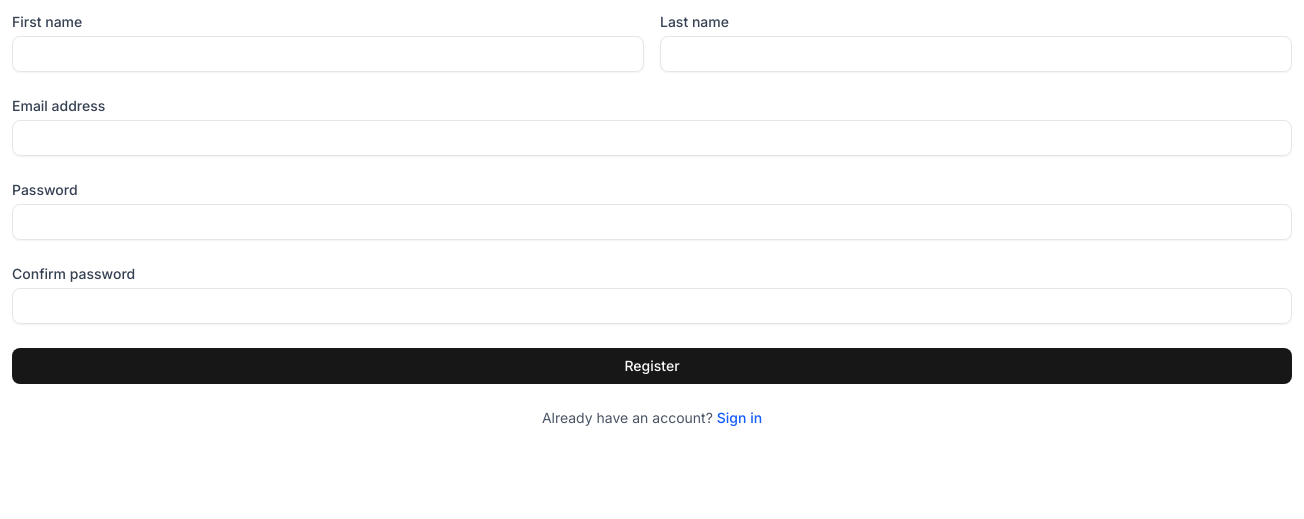
Test: test register inputs › test password mismatch
Type "John" into the field with test id "first-name" at (328, 54), box [12,36,644,72]
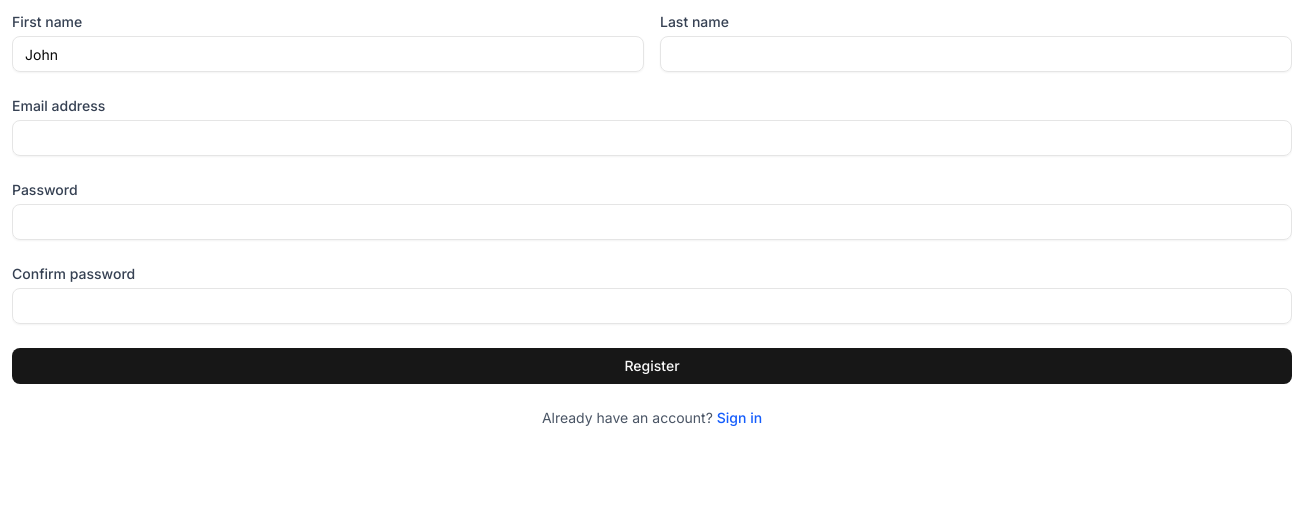
Type "Doe" into the field with test id "last-name" at (976, 54), box [660,36,1292,72]
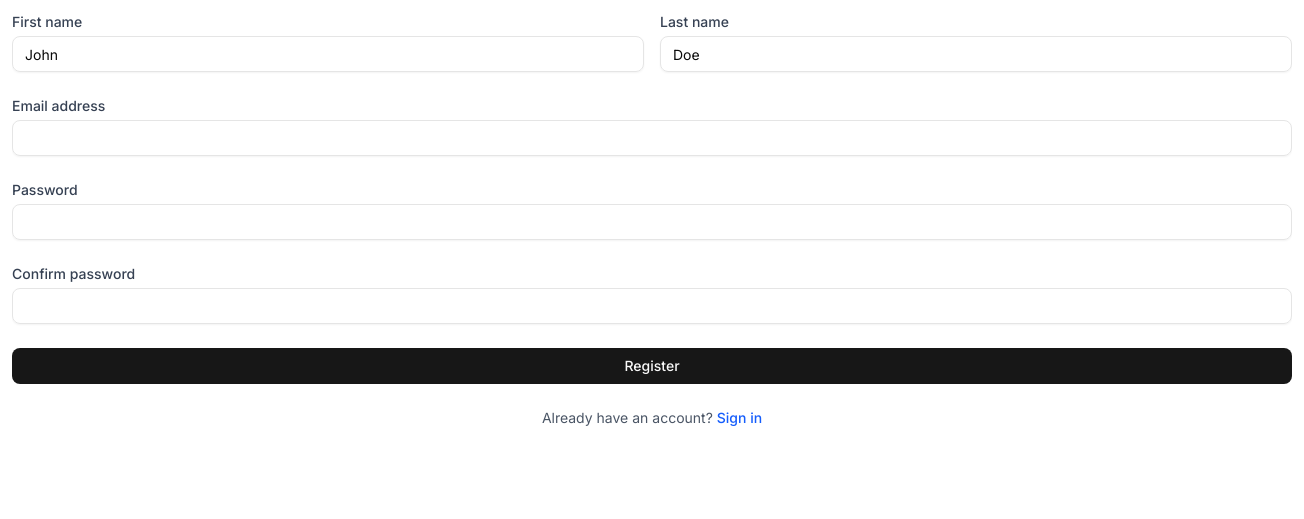
Type "john.doe@example.com" into the field with test id "email" at (652, 138), box [12,120,1292,156]
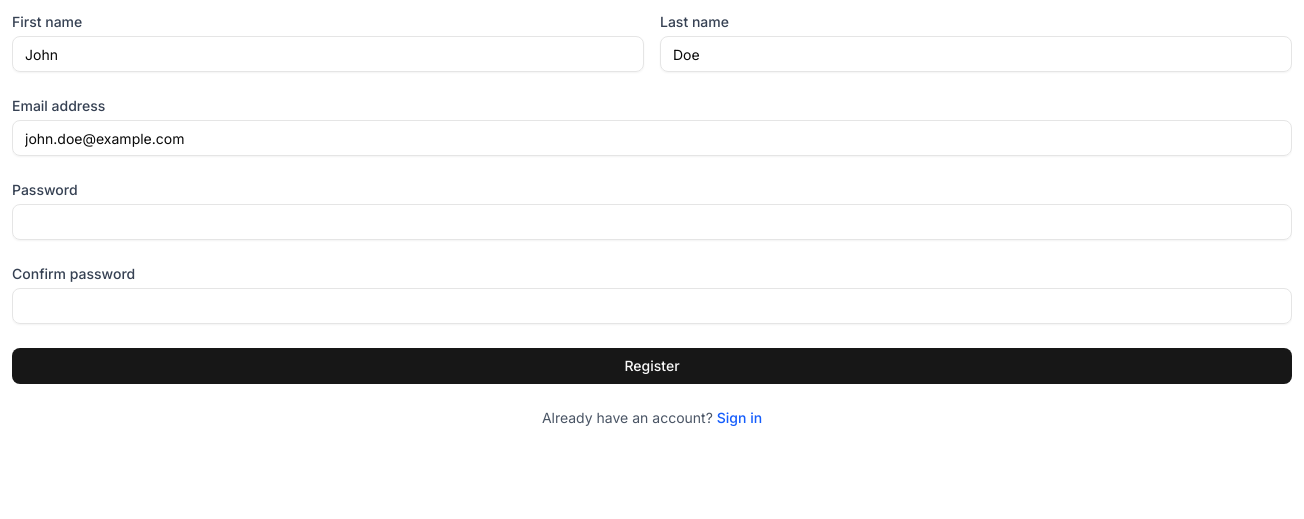
Type "Password123" into the password field with test id "password" at (652, 222), box [12,204,1292,240]
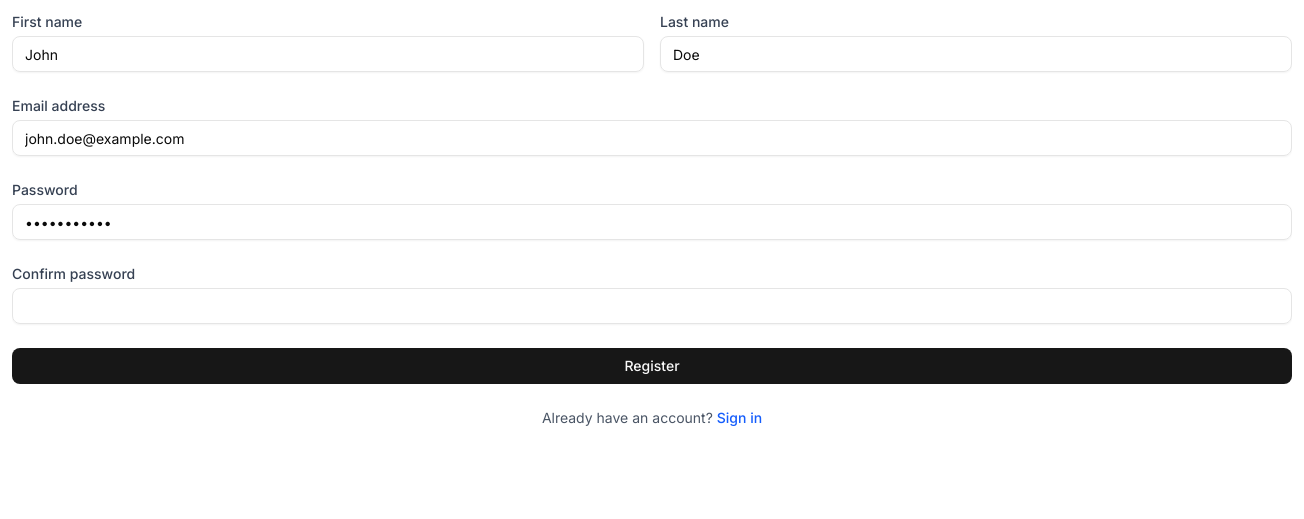
Type "DifferentPassword" into the password field with test id "confirm-password" at (652, 306), box [12,288,1292,324]
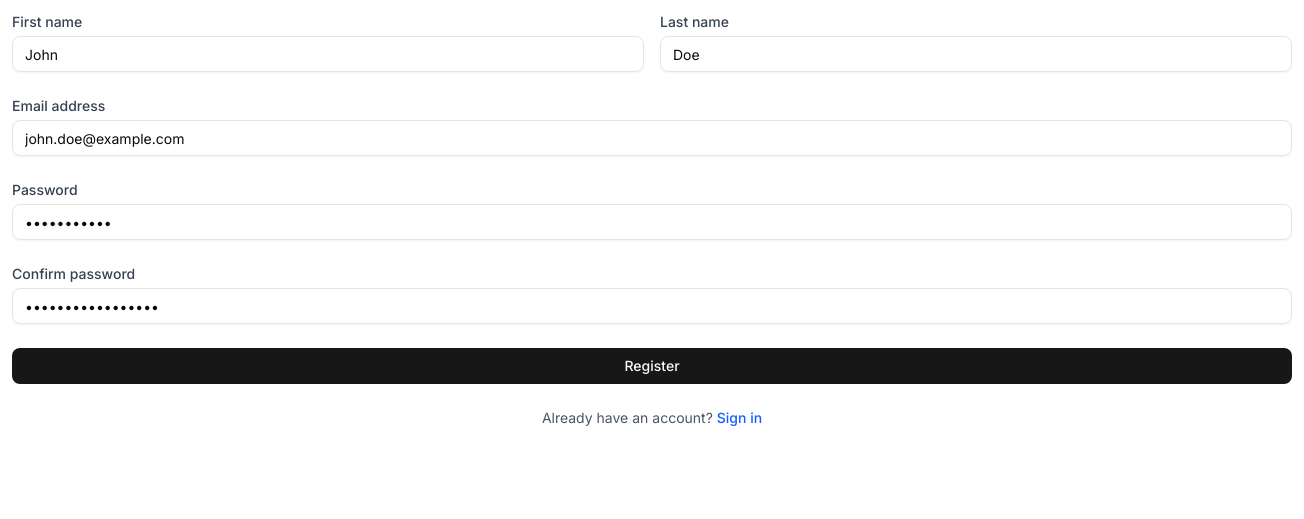
Click the button "Register" at (652, 366), box [12,348,1292,384]
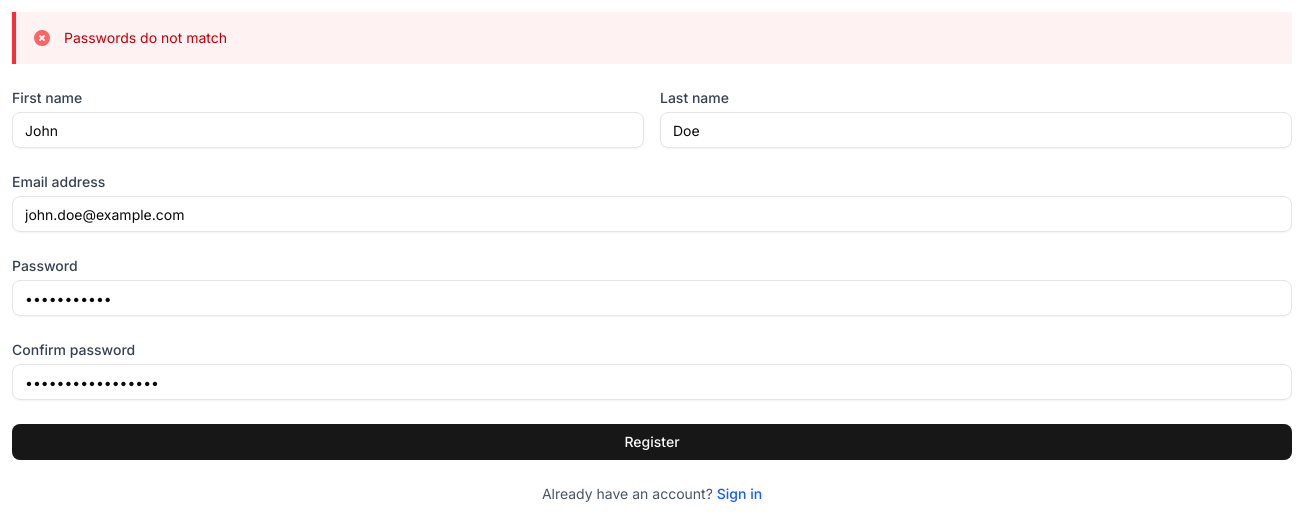
Expected: the text "Passwords do not match" is shown, [64,28,227,48]
